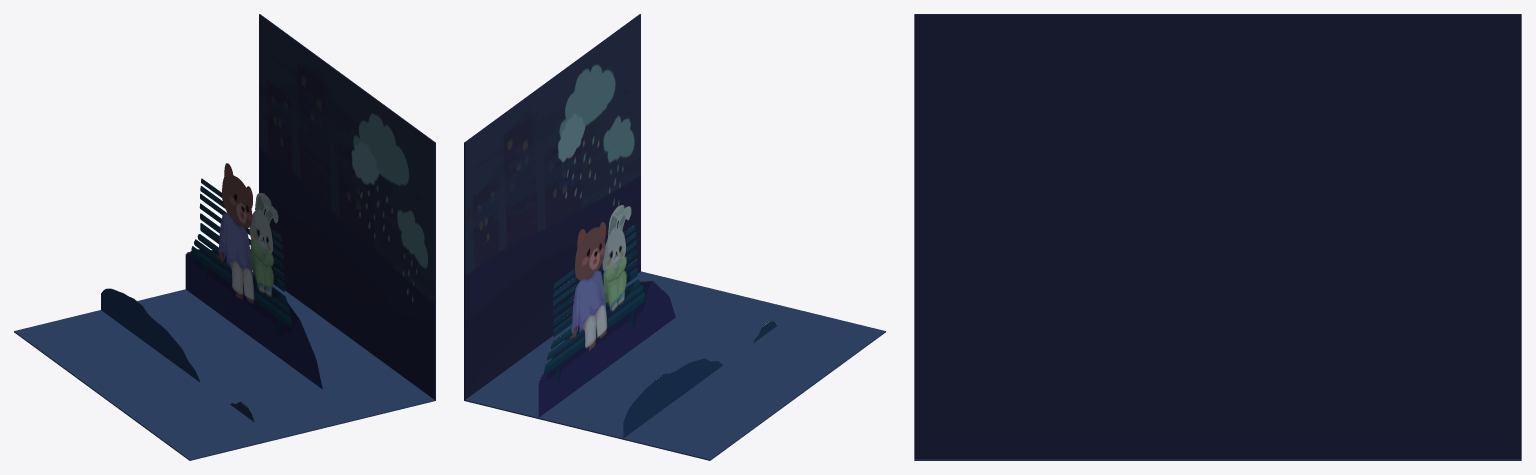
3 views of the same model, side by side, from view 1: azimuth 30°, elevation 25°; view 2: azimuth 150°, elevation 25°; view 3: azimuth 270°, elevation 25° (orthographic). The views are drawn at different scales.
Parts seen in each view (by area): view 1: ceil, floor, main, front; view 2: ceil, floor, main, front; view 3: ceil, floor.
Boxes of the visible parts, box(x1,y1,x2,y2) form: ceil: box(259, 14, 435, 399); floor: box(14, 284, 435, 460); main: box(185, 163, 322, 389); front: box(101, 288, 254, 422); ceil: box(464, 14, 640, 400); floor: box(464, 271, 885, 460); main: box(538, 205, 675, 417); front: box(623, 320, 776, 438); ceil: box(914, 14, 1521, 458); floor: box(914, 459, 1521, 460).
Bounding box in the file's own units: 6.66 × 6.67 × 8.23.
Materials: 4 (3 with a texture image).
